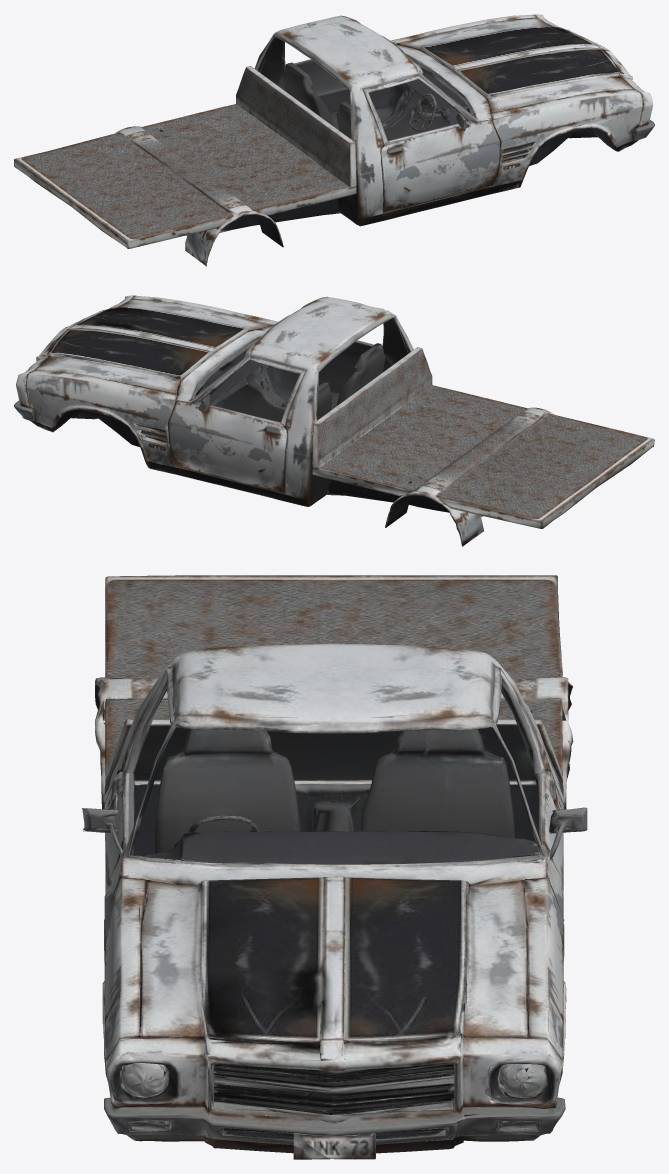
The model's file is gt_ute.glb.
The picture shows the model from 3 angles, top to bottom: view 1: azimuth 30°, elevation 25°; view 2: azimuth 150°, elevation 25°; view 3: azimuth 270°, elevation 25°; orthographic projection. The views are drawn at different scales.
Parts seen in each view (by area): view 1: gt_ute; view 2: gt_ute; view 3: gt_ute.
Boxes of the visible parts, bbox=[...] form: gt_ute: bbox=[14, 14, 654, 266]; gt_ute: bbox=[14, 295, 654, 546]; gt_ute: bbox=[82, 575, 587, 1159].
Bounding box in the file's own units: 4.9 × 1.16 × 1.99.
1 material, 1 textured.
